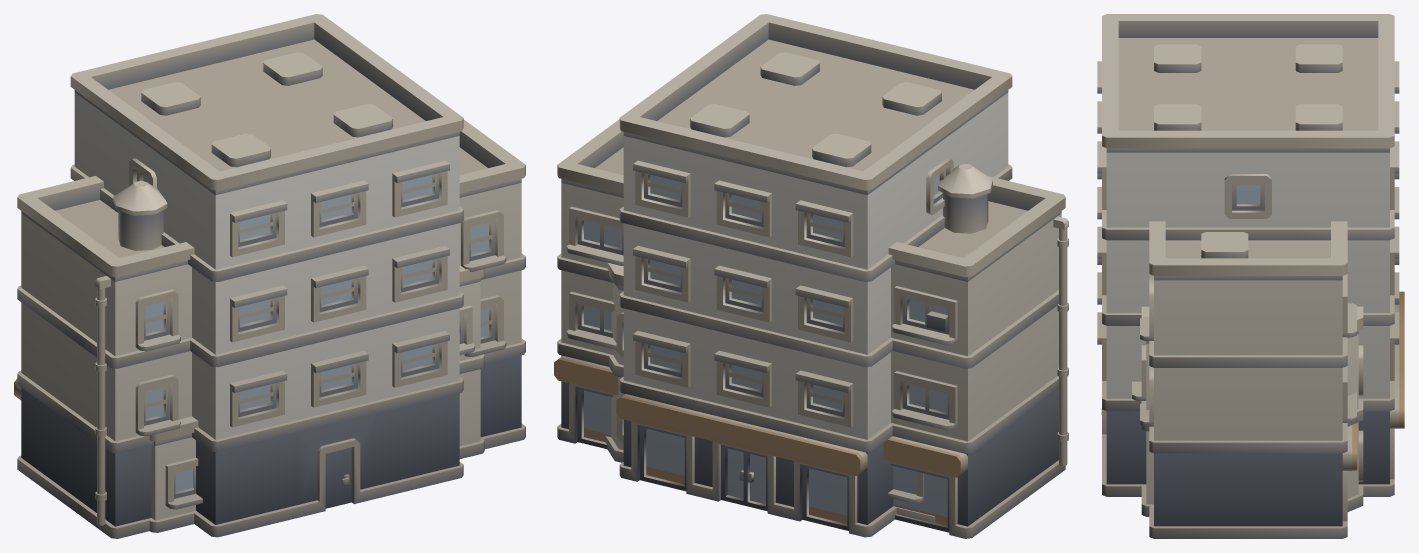
The model's file is kenney-city.glb.
The picture shows the model from 3 angles, left to right: view 1: azimuth 30°, elevation 25°; view 2: azimuth 150°, elevation 25°; view 3: azimuth 270°, elevation 25°; orthographic projection.
Parts seen in each view (by area): view 1: building-i, building-k, building-e; view 2: building-i, building-k, building-e; view 3: building-i, building-k, building-e.
Boxes of the visible parts, x1,y1,x2,y2 form: building-i: (70, 14, 463, 537); building-k: (14, 119, 525, 538); building-e: (147, 266, 484, 532); building-i: (616, 14, 1012, 537); building-k: (554, 119, 1068, 538); building-e: (605, 262, 935, 522); building-i: (1097, 14, 1404, 496); building-k: (1140, 221, 1357, 538); building-e: (1132, 306, 1363, 516).
Bounding box in the file's own units: 2.08 × 1.68 × 1.3.
